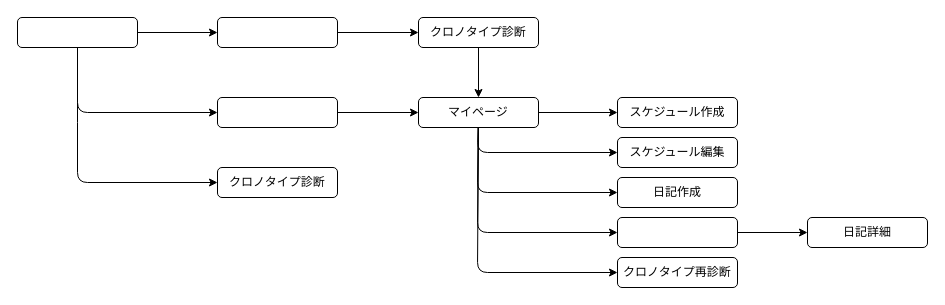
The diagram is 945 pixels wide and 305 high, and some of its shapes have lost their labels. The shapes that lost their labels are listed below. From the top down, each one's centre as x and y in pixels, then its label:
At pixel 77 32: "トップページ".
At pixel 277 32: "サインアップ".
At pixel 277 112: "サインイン".
At pixel 677 232: "日記一覧".
